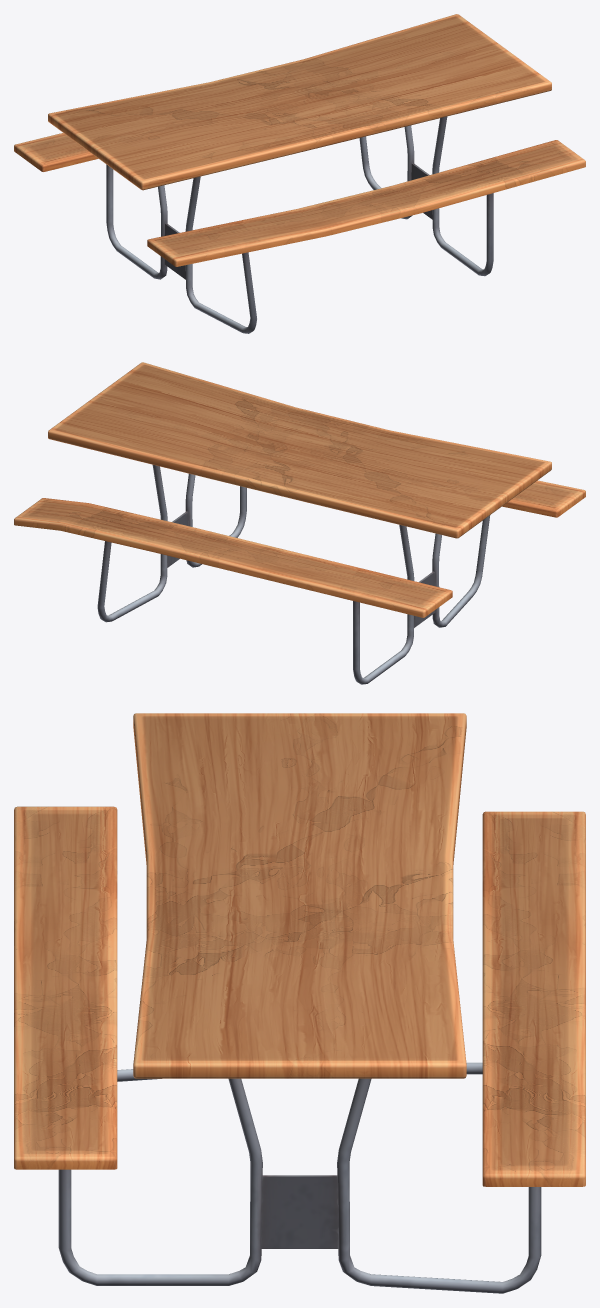
Rendered from Table02_1.FBX.
3 views of the same model, one above another, from view 1: azimuth 30°, elevation 25°; view 2: azimuth 150°, elevation 25°; view 3: azimuth 270°, elevation 25° (orthographic). The views are drawn at different scales.
Parts seen in each view (by area): view 1: Table02_1; view 2: Table02_1; view 3: Table02_1.
Boxes of the visible parts, x1,y1,x2,y2 form: Table02_1: (14, 14, 585, 333); Table02_1: (14, 362, 585, 684); Table02_1: (14, 713, 585, 1293).
Size of what is drawn, in the model's own units: 2 by 0.7717 by 1.37.
